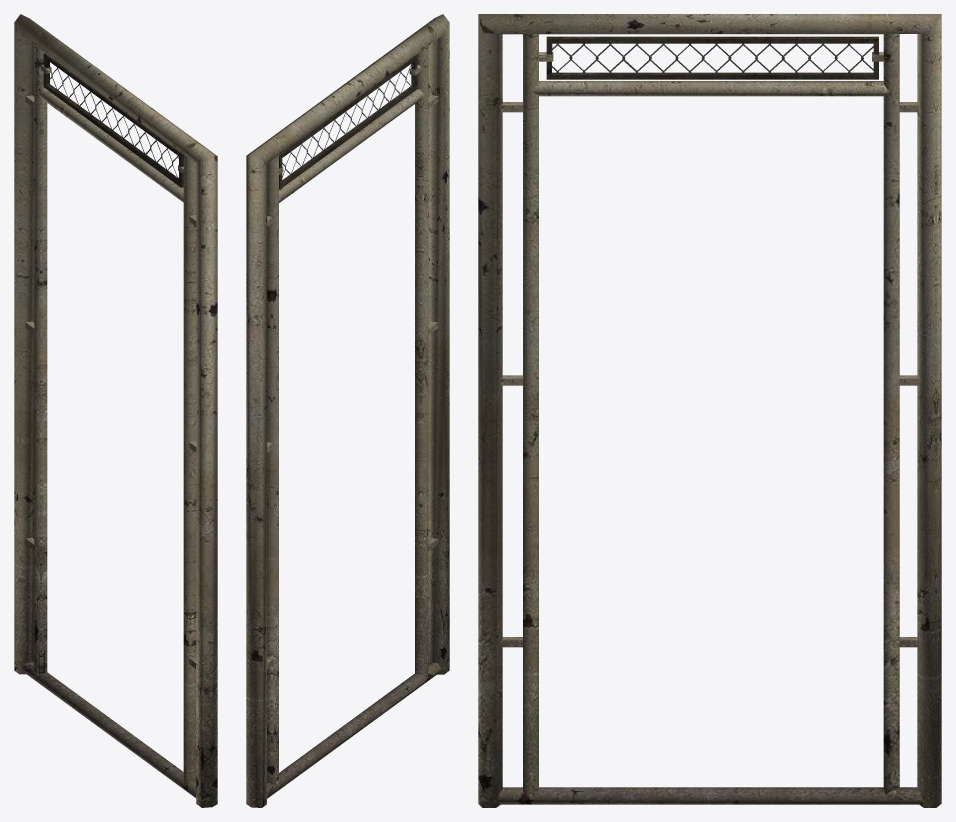
File: interior_fence003e.glb
3 views of the same model, side by side, from view 1: azimuth 30°, elevation 25°; view 2: azimuth 150°, elevation 25°; view 3: azimuth 270°, elevation 25° (orthographic). The views are drawn at different scales.
Parts seen in each view (by area): view 1: 0_prison_yard001, 1_fence_alpha; view 2: 0_prison_yard001, 1_fence_alpha; view 3: 0_prison_yard001, 1_fence_alpha.
Boxes of the visible parts, x1,y1,x2,y2 form: 0_prison_yard001: (14, 14, 217, 807); 1_fence_alpha: (47, 62, 178, 180); 0_prison_yard001: (246, 14, 449, 807); 1_fence_alpha: (282, 63, 413, 177); 0_prison_yard001: (478, 14, 941, 807); 1_fence_alpha: (552, 43, 873, 73).
Bounding box in the file's own units: 0.0775 × 3.06 × 1.63.
2 materials, 2 textured.
